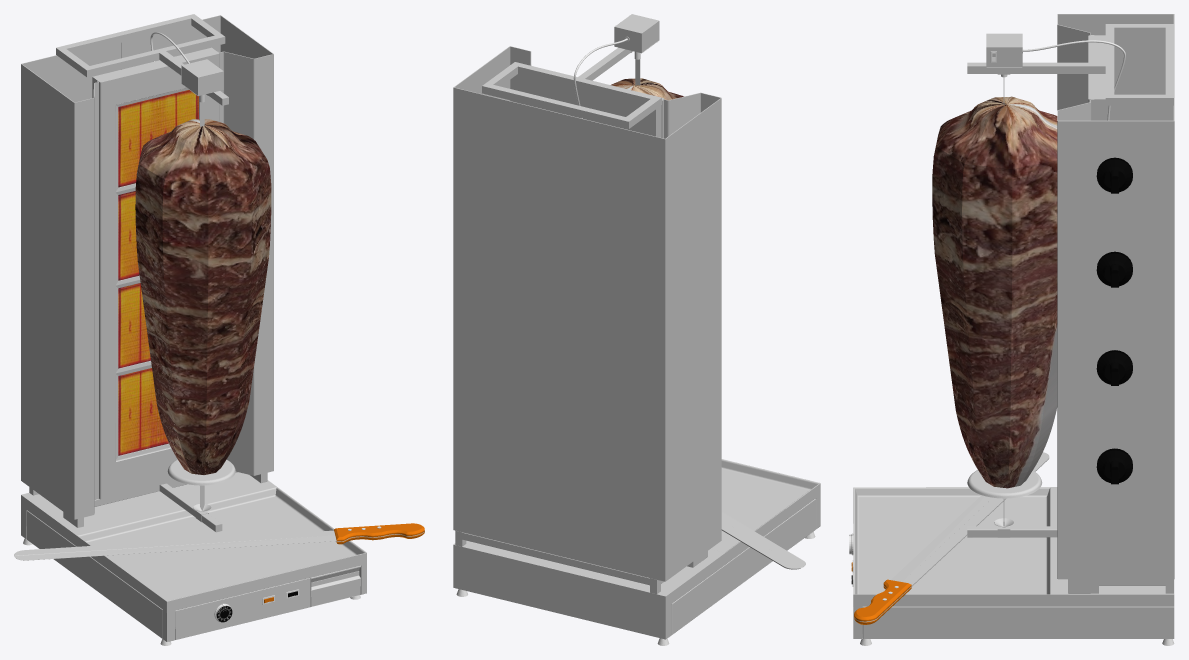
The model's file is shawarma.glb.
The picture shows the model from 3 angles, left to right: view 1: azimuth 30°, elevation 25°; view 2: azimuth 150°, elevation 25°; view 3: azimuth 270°, elevation 25°; orthographic projection. The views are drawn at different scales.
Parts seen in each view (by area): view 1: Object_6, Object_3, Object_2, Object_7, Object_8, Object_11; view 2: Object_6, Object_7, Object_8, Object_3; view 3: Object_6, Object_3, Object_7, Object_9, Object_8, Object_11, Object_13.
Part boxes in pixels (left/top/right/bottom): Object_6: left=21, top=15, right=366, bottom=641; Object_3: left=135, top=119, right=271, bottom=474; Object_2: left=118, top=90, right=198, bottom=455; Object_7: left=29, top=14, right=267, bottom=532; Object_8: left=14, top=94, right=360, bottom=606; Object_11: left=334, top=523, right=424, bottom=544; Object_6: left=453, top=46, right=820, bottom=639; Object_7: left=455, top=14, right=707, bottom=594; Object_8: left=631, top=50, right=805, bottom=569; Object_3: left=611, top=78, right=683, bottom=100; Object_6: left=853, top=14, right=1174, bottom=638; Object_3: left=932, top=96, right=1057, bottom=488; Object_7: left=967, top=24, right=1173, bottom=593; Object_9: left=851, top=157, right=1132, bottom=584; Object_8: left=891, top=68, right=1049, bottom=586; Object_11: left=854, top=579, right=911, bottom=624; Object_13: left=990, top=40, right=1125, bottom=120.
Bounding box in the file's own units: 994 × 1459 × 772.
Materials: 7 (3 with a texture image).
